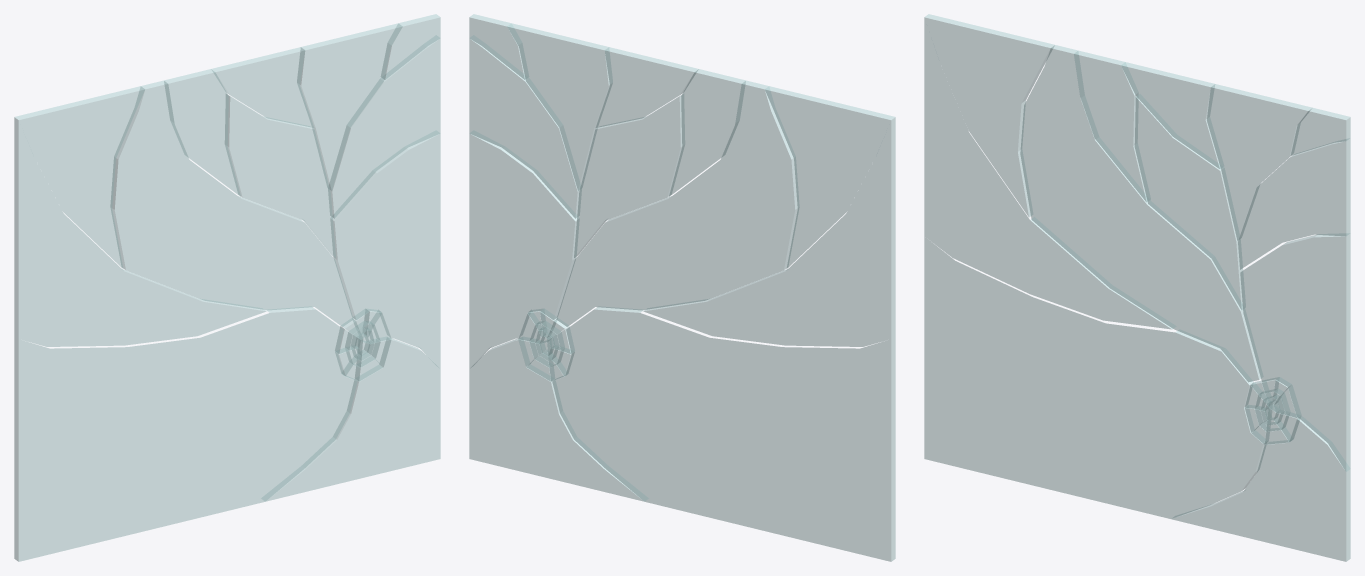
The model's file is Grass.glb.
3 views of the same model, side by side, from view 1: azimuth 30°, elevation 25°; view 2: azimuth 150°, elevation 25°; view 3: azimuth 330°, elevation 25° (orthographic).
Parts seen in each view (by area): view 1: Cube; view 2: Cube; view 3: Cube.
Part boxes in pixels (x1,y1,x2,y2): Cube: [14, 14, 440, 561]; Cube: [469, 14, 895, 561]; Cube: [924, 14, 1350, 561].
Size of the model in its own units: 2.78 by 2.78 by 0.0519.
